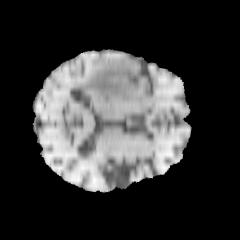glioma: (77, 58, 142, 104)
